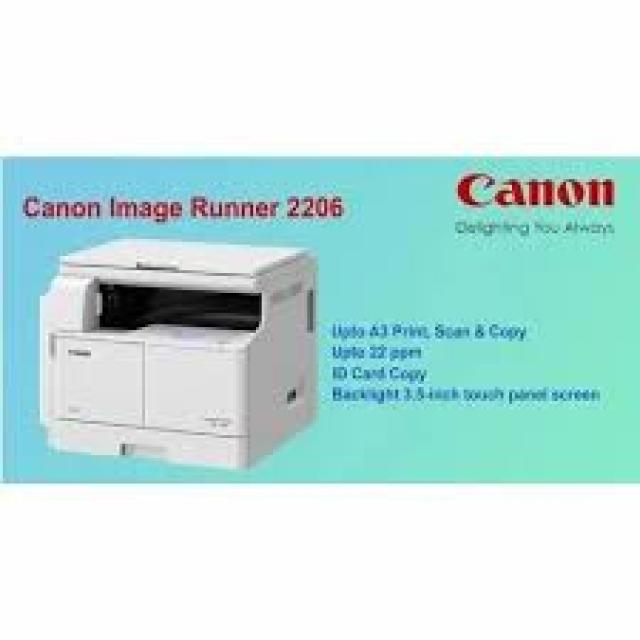printer: (37, 236, 319, 469)
